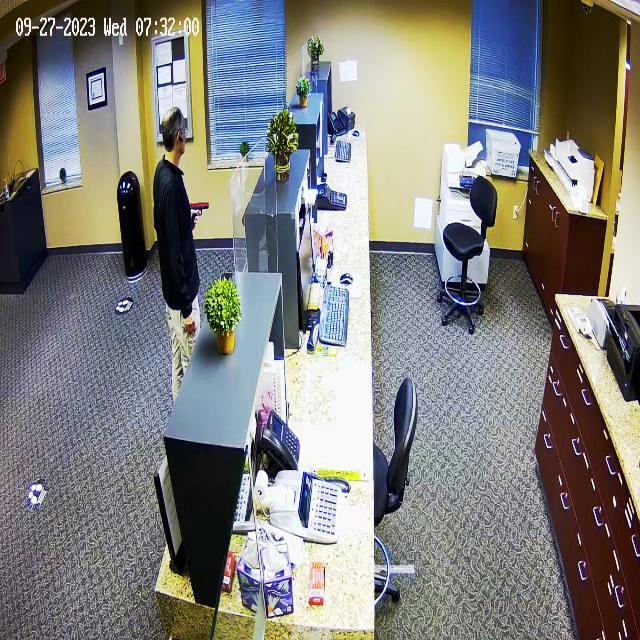Gun: (181, 187, 217, 225)
